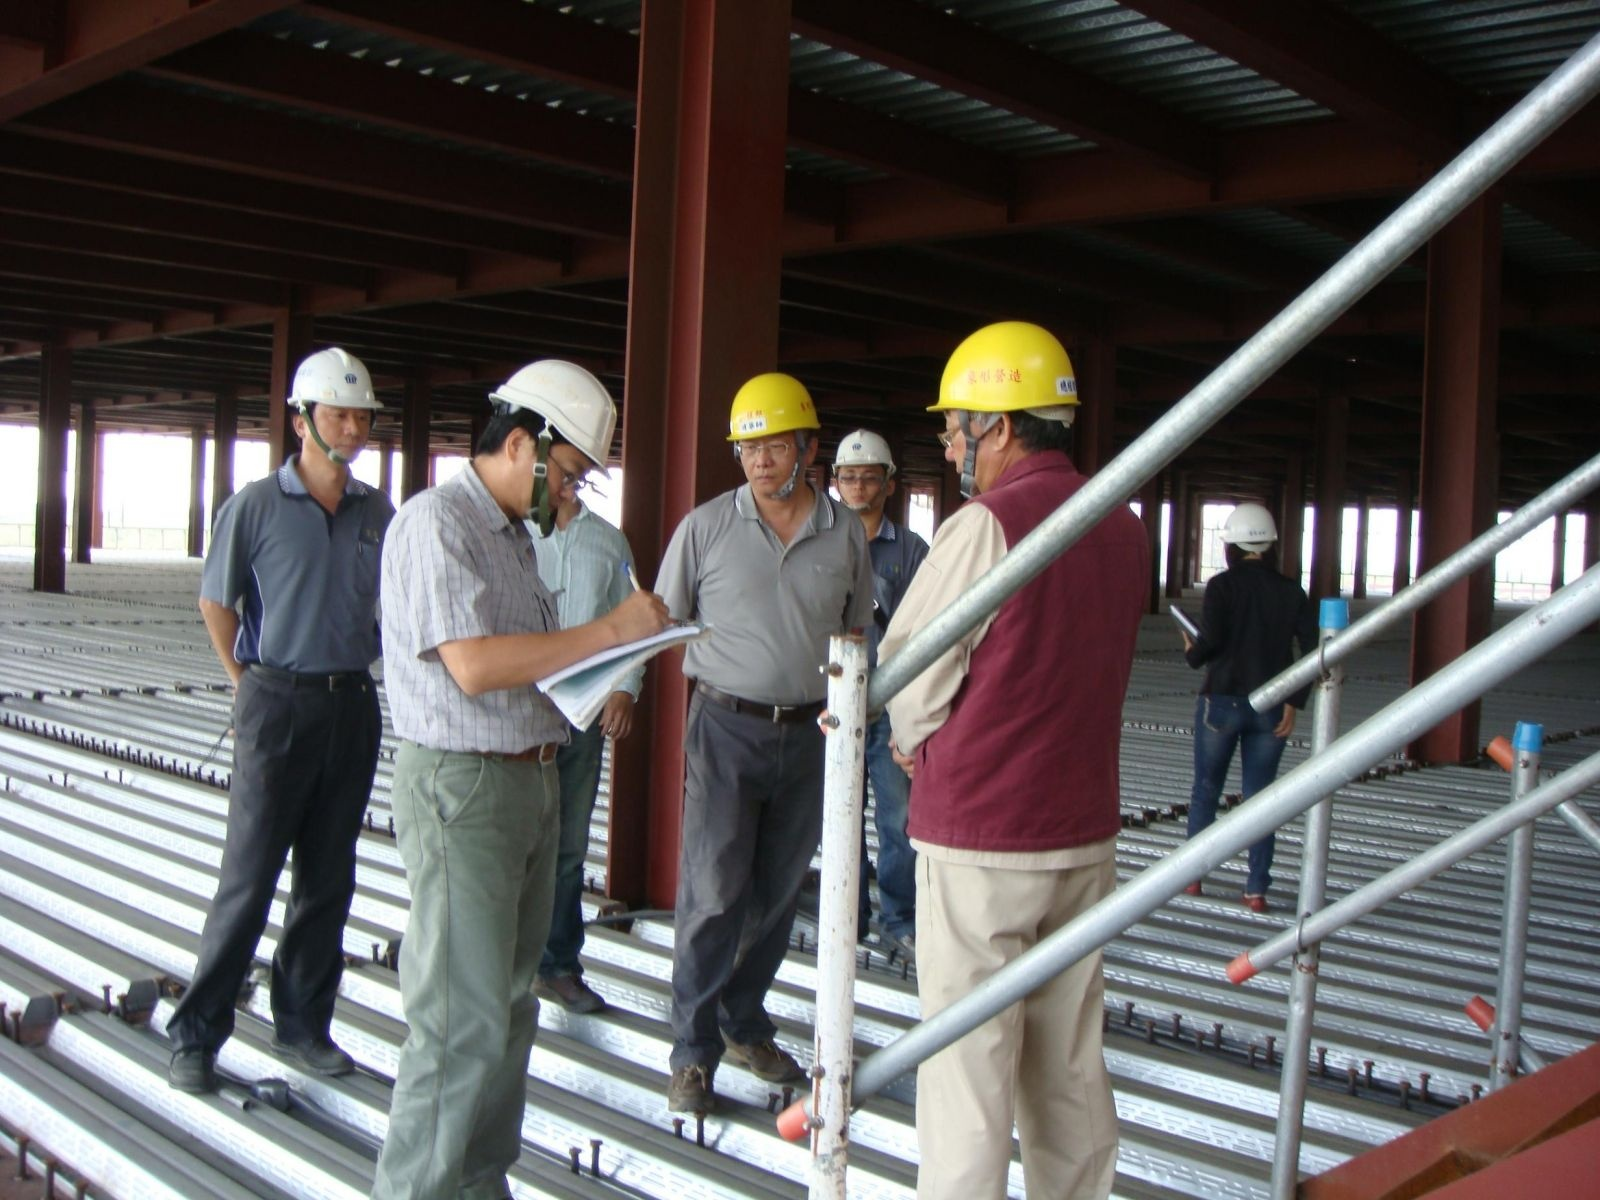white: (470, 350, 620, 521), (281, 342, 383, 469), (821, 429, 901, 519), (1214, 500, 1286, 570)
yellow: (925, 310, 1094, 495), (716, 374, 821, 497)
